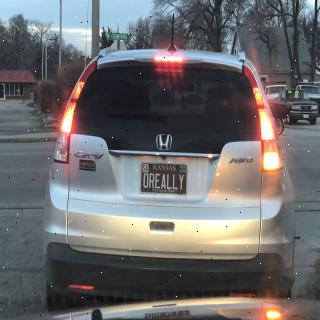license: (141, 163, 189, 196)
